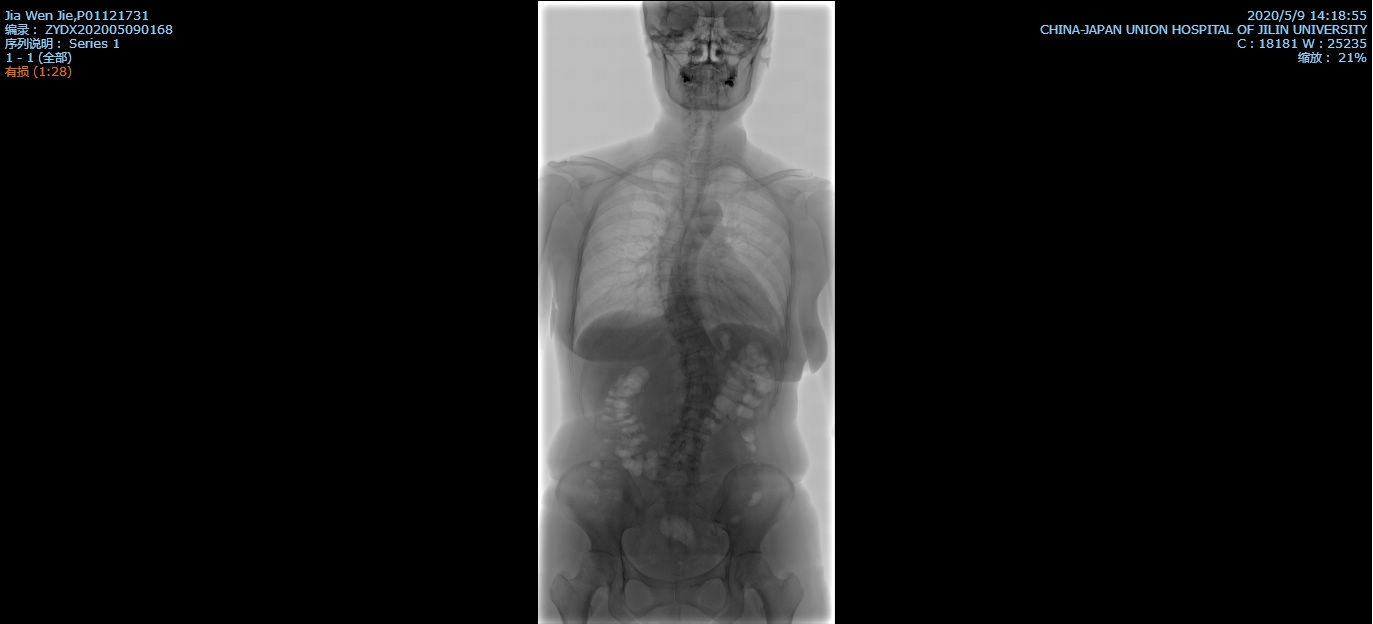Bone: (660, 459, 697, 478), (679, 408, 709, 428), (668, 435, 701, 453), (682, 357, 714, 374), (687, 381, 715, 399), (679, 336, 709, 352), (669, 317, 697, 332), (662, 298, 687, 313), (656, 279, 682, 293), (657, 261, 680, 275), (658, 242, 678, 256), (667, 226, 684, 240)
